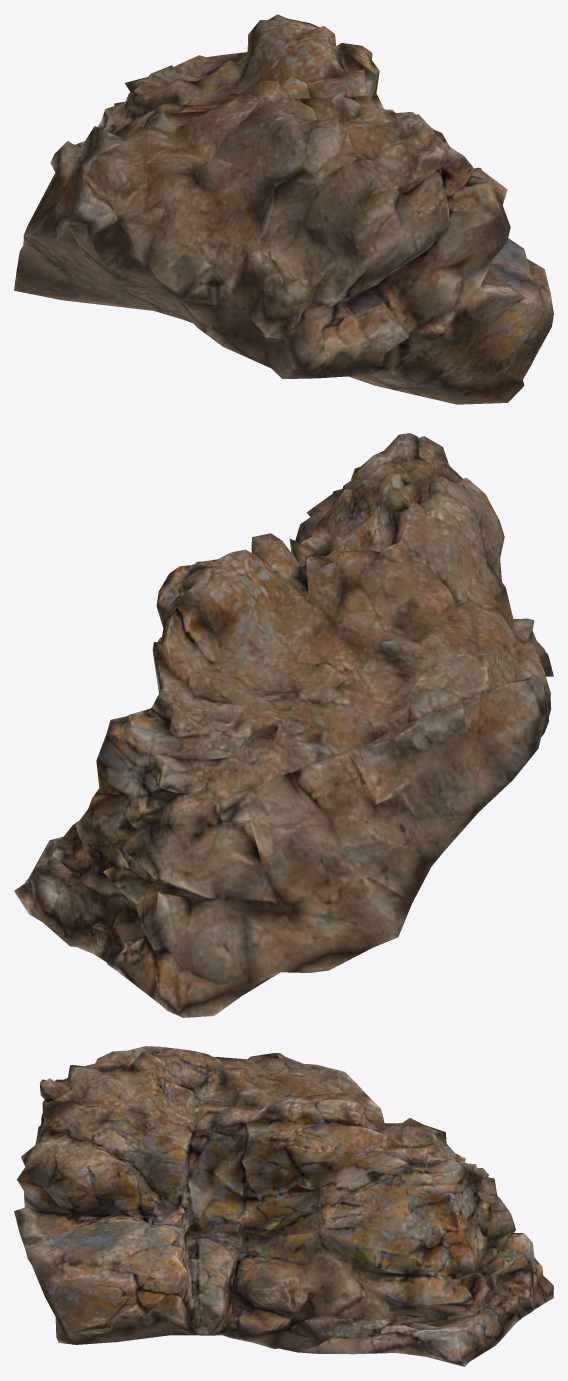
Rendered from boulder_01-lod1.glb.
3 renders of one model, top to bottom at view 1: azimuth 30°, elevation 25°; view 2: azimuth 150°, elevation 25°; view 3: azimuth 270°, elevation 25°, orthographic. The views are drawn at different scales.
Parts seen in each view (by area): view 1: boulder_01; view 2: boulder_01; view 3: boulder_01.
Boxes of the visible parts, x1=… form: boulder_01: x1=14, y1=14, x2=553, y2=404; boulder_01: x1=14, y1=433, x2=553, y2=1017; boulder_01: x1=14, y1=1046, x2=553, y2=1366.
Bounding box in the file's own units: 1.27 × 1 × 1.82.
Materials: 1 (1 with a texture image).
